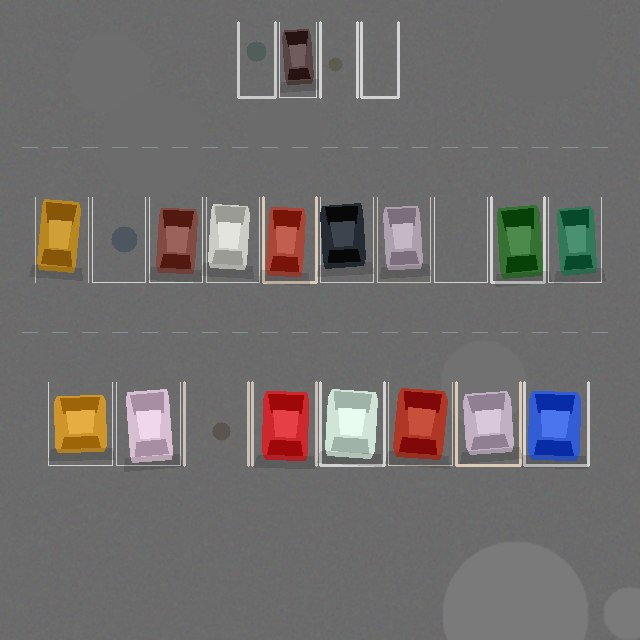space-empty: (184, 382, 248, 465), (92, 197, 145, 282), (434, 197, 487, 282), (238, 22, 275, 97), (320, 22, 357, 97), (361, 22, 398, 97)
space-occupied: (48, 382, 112, 465), (116, 382, 180, 465), (252, 382, 316, 465), (320, 382, 384, 465), (388, 382, 452, 465), (456, 382, 520, 465), (524, 382, 588, 465), (35, 197, 88, 282), (149, 197, 202, 282), (206, 197, 259, 282), (263, 197, 316, 282), (320, 197, 373, 282), (377, 197, 430, 282), (491, 197, 544, 282), (548, 197, 601, 282), (279, 22, 316, 97)
